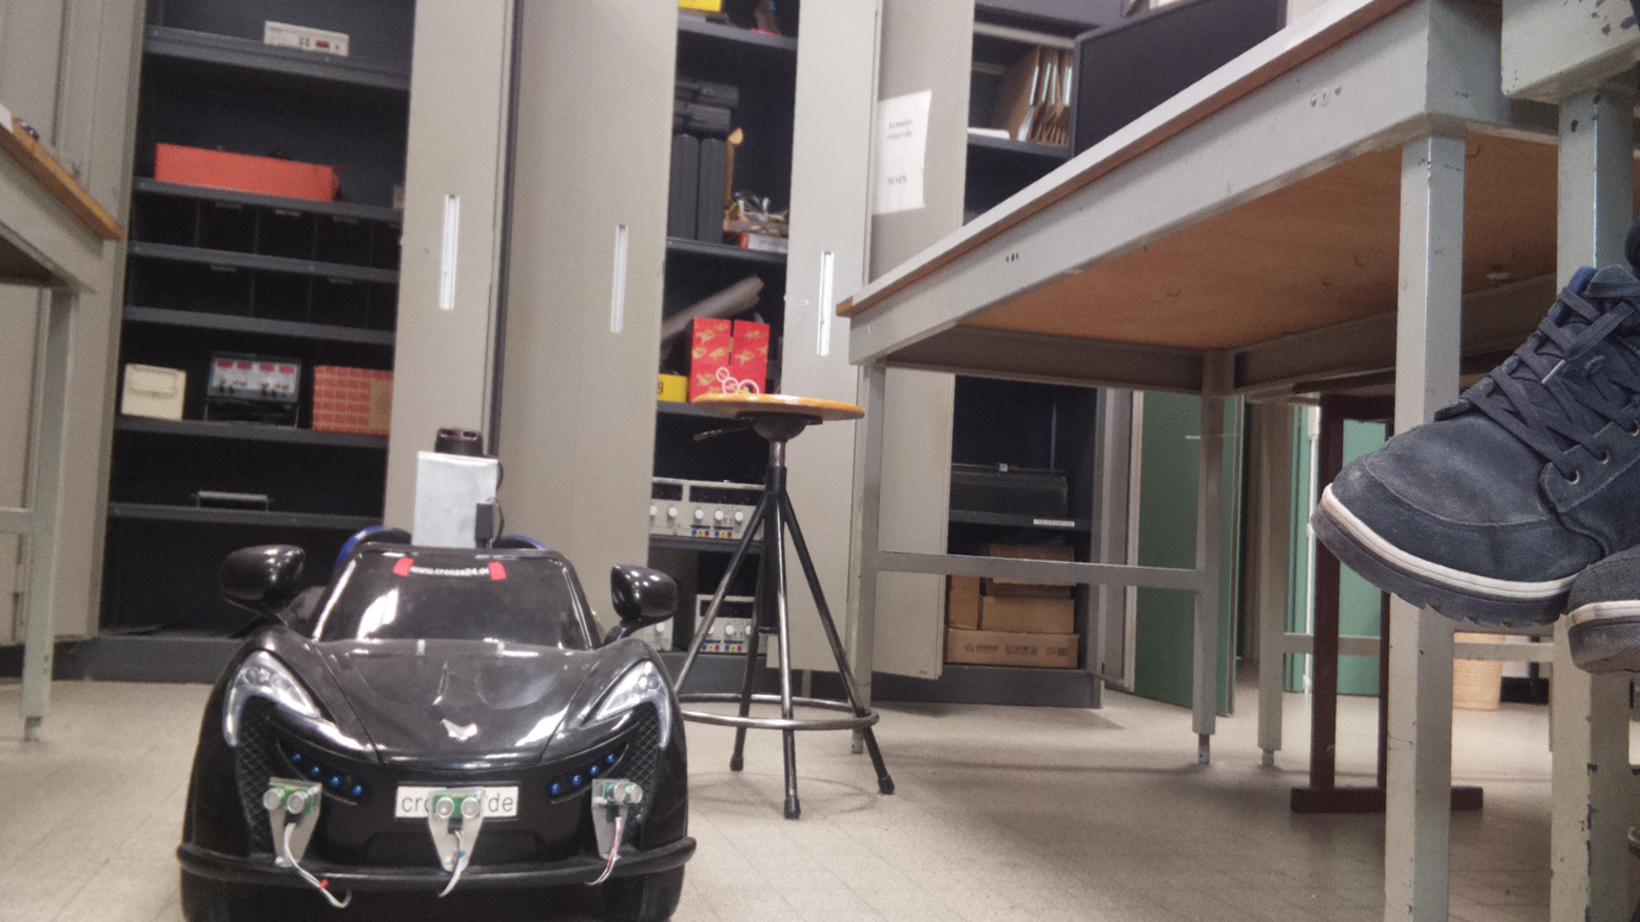big: (169, 428, 703, 922)
